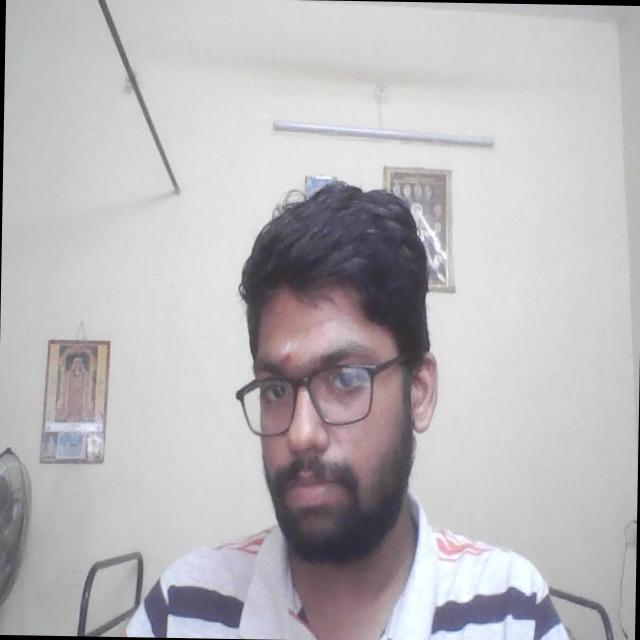Focused: (237, 284, 428, 540)
